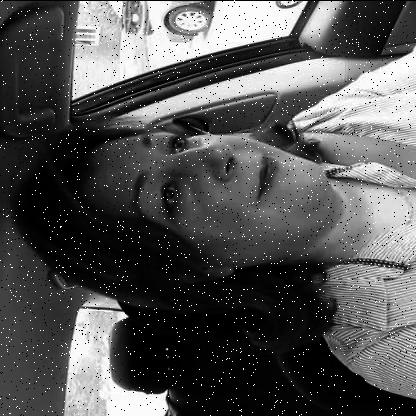seatbelt: (3, 92, 416, 341)
